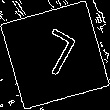L_SW: (29, 26, 81, 84)
